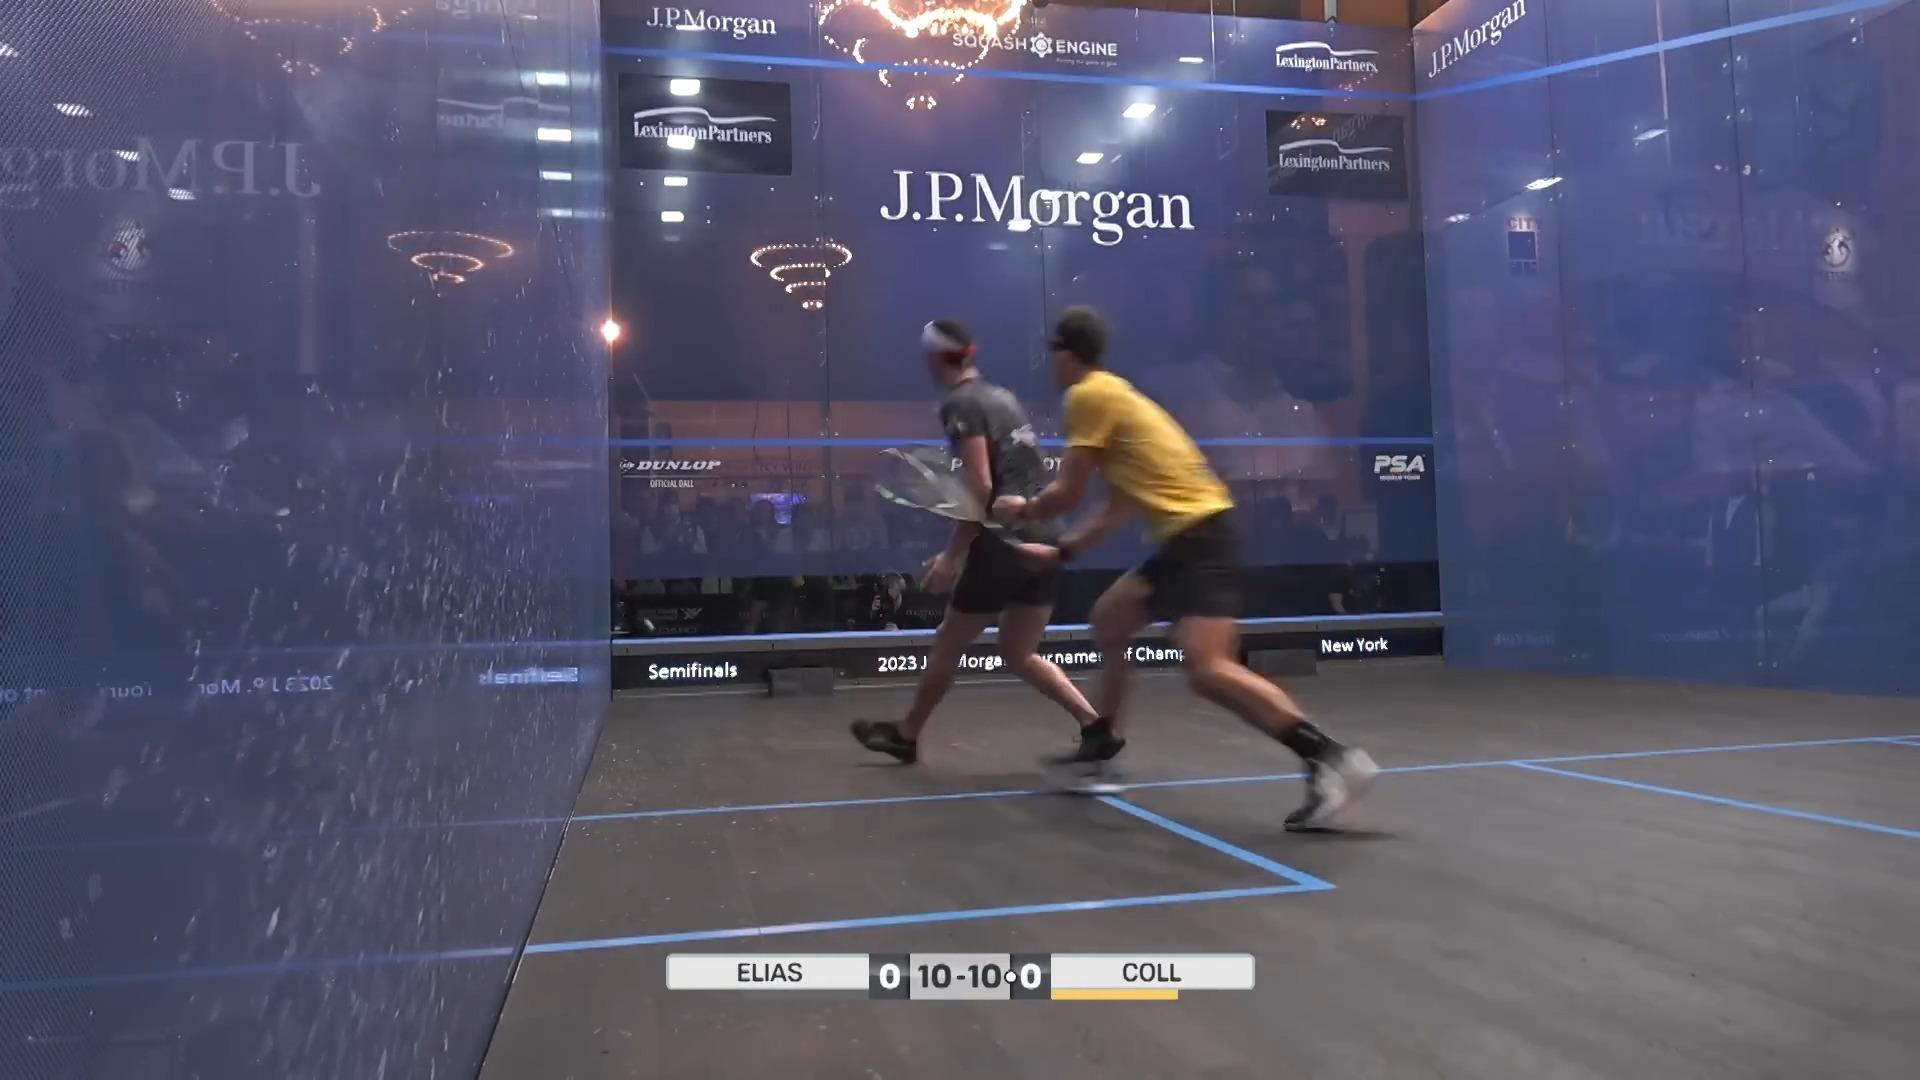Racket: (847, 440, 953, 530)
